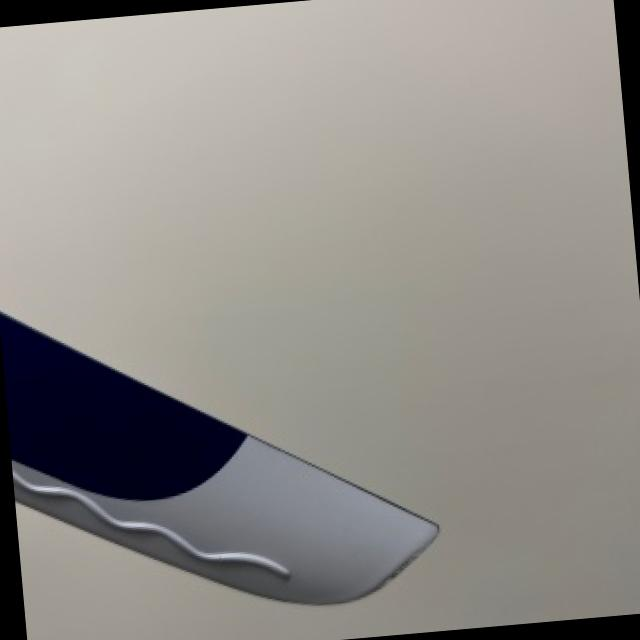healthy: (0, 309, 437, 602)
